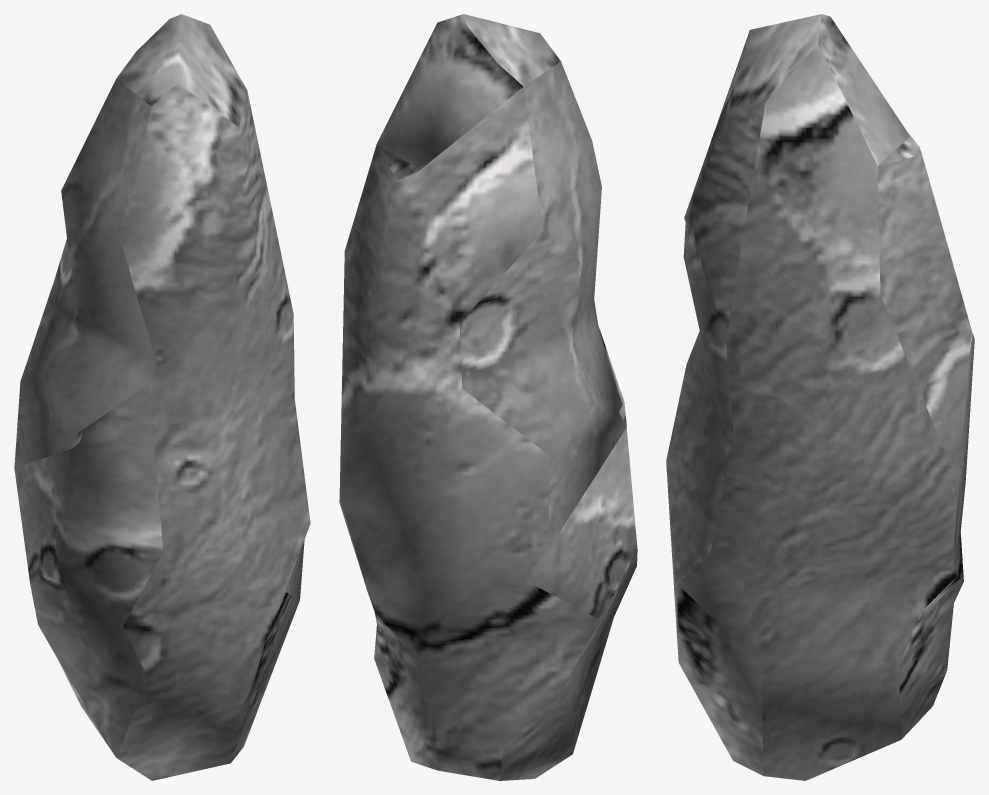
File: AsteroidPillarHuge1.fbx
3 renders of one model, left to right at view 1: azimuth 30°, elevation 25°; view 2: azimuth 150°, elevation 25°; view 3: azimuth 270°, elevation 25°, orthographic. The views are drawn at different scales.
Visible parts, largest first — view 1: Mesh; view 2: Mesh; view 3: Mesh.
Part boxes in pixels (box(x1,y1,x2,y2)): Mesh: box(14, 14, 310, 780); Mesh: box(339, 14, 637, 780); Mesh: box(666, 14, 974, 780).
Bounding box in the file's own units: 108 × 308 × 113.
Materials: 1 (1 with a texture image).
